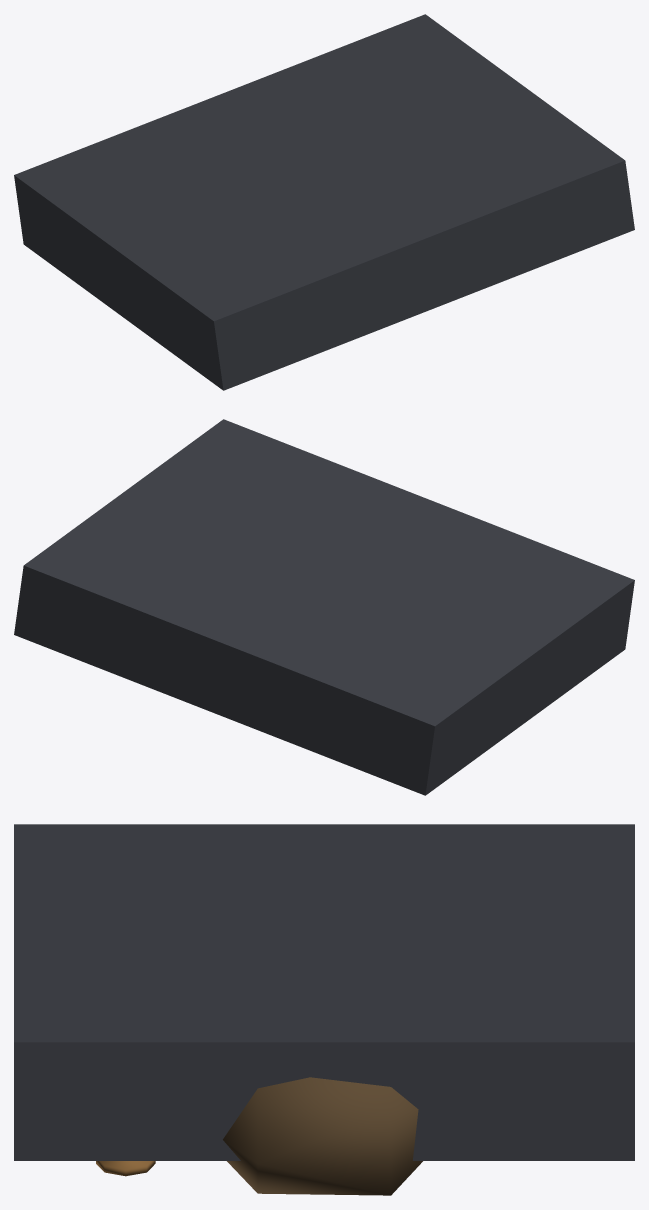
Rendered from hidden_coin.glb.
3 renders of one model, top to bottom at view 1: azimuth 30°, elevation 25°; view 2: azimuth 150°, elevation 25°; view 3: azimuth 270°, elevation 25°, orthographic. The views are drawn at different scales.
Parts seen in each view (by area): view 1: hidden_coin; view 2: hidden_coin; view 3: hidden_coin.
Boxes of the visible parts, x1,y1,x2,y2 form: hidden_coin: (14,14,634,390); hidden_coin: (14,419,634,795); hidden_coin: (14,824,634,1195).
Size of the model in its own units: 0.3257 by 0.0913 by 0.25.
